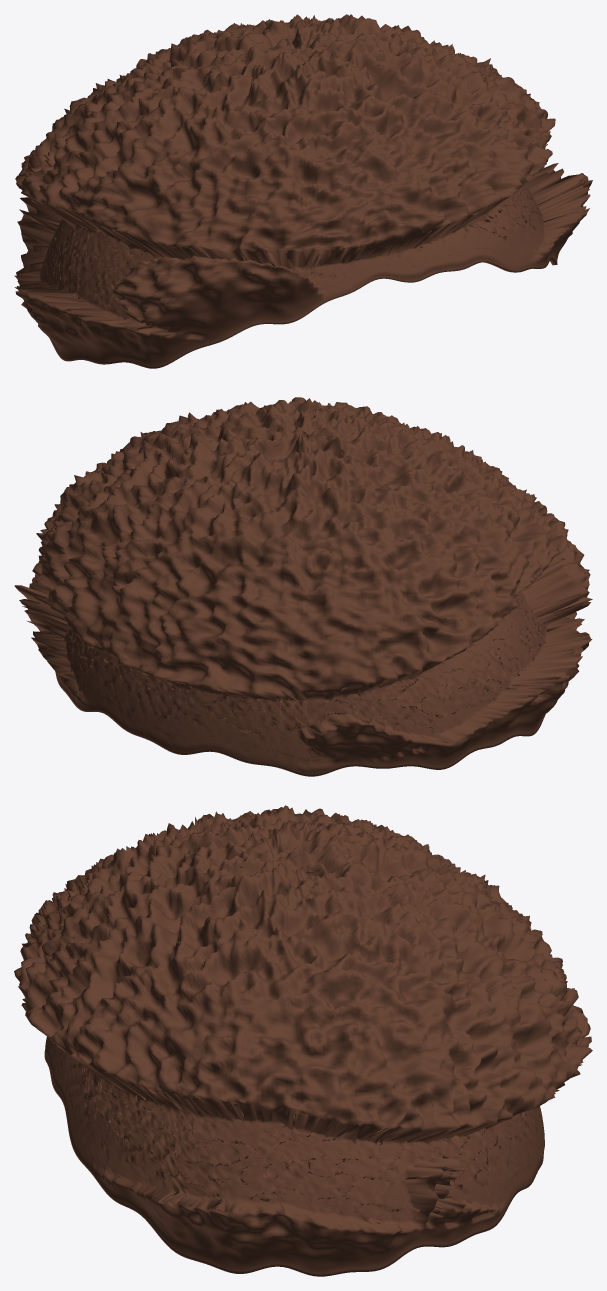
File: Masculine-afro-headband260-hair.glb
The picture shows the model from 3 angles, top to bottom: view 1: azimuth 30°, elevation 25°; view 2: azimuth 150°, elevation 25°; view 3: azimuth 270°, elevation 25°; orthographic projection. The views are drawn at different scales.
Parts seen in each view (by area): view 1: 226 hair / Hair252 / dense natural coil groups.001; view 2: 226 hair / Hair252 / dense natural coil groups.001; view 3: 226 hair / Hair252 / dense natural coil groups.001.
Boxes of the visible parts, x1,y1,x2,y2 form: 226 hair / Hair252 / dense natural coil groups.001: (14,14,592,368); 226 hair / Hair252 / dense natural coil groups.001: (14,397,592,776); 226 hair / Hair252 / dense natural coil groups.001: (14,805,592,1276).
Size of the model in its own units: 1.12 by 0.513 by 0.8804.
